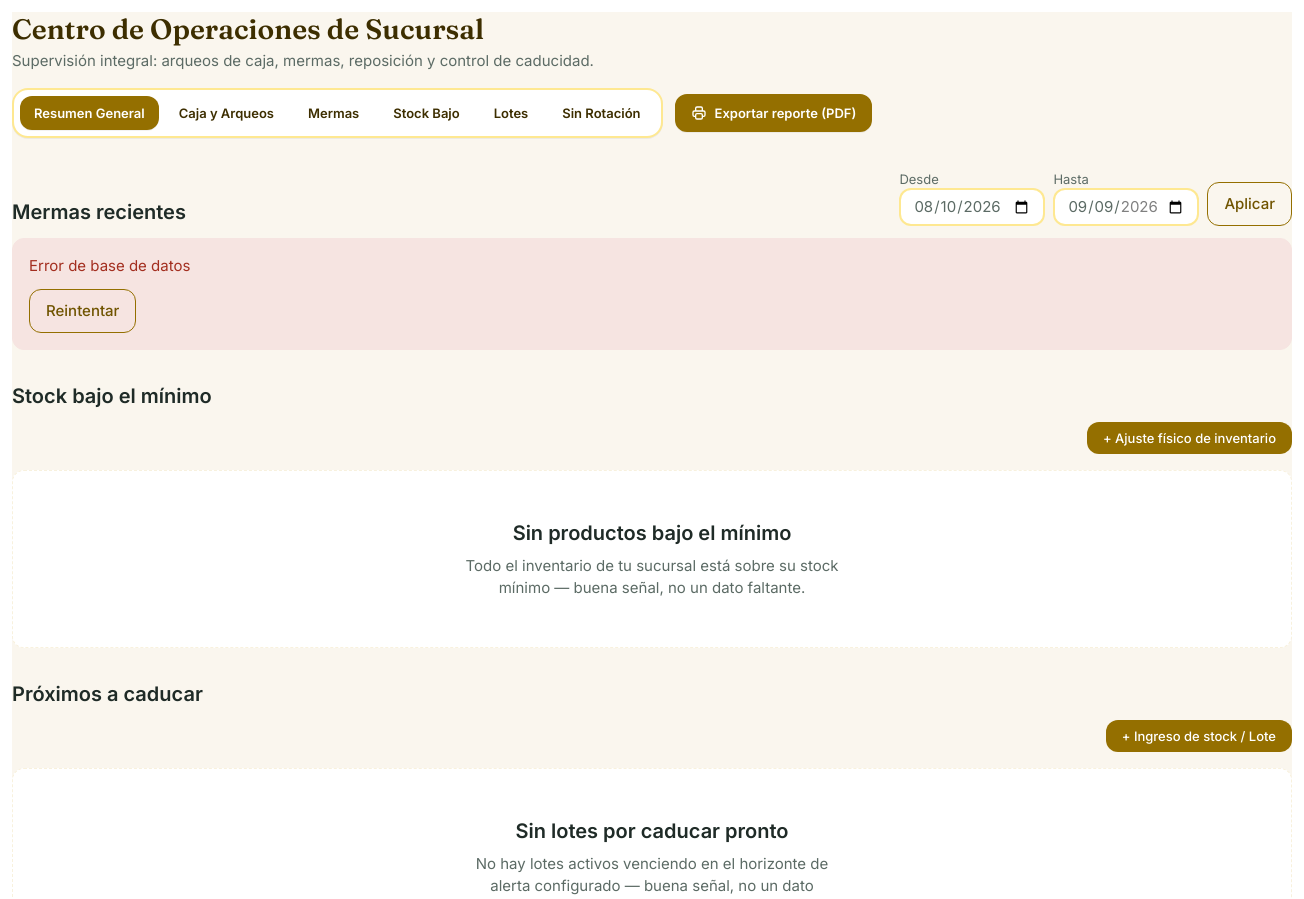
Test: DashboardSucursal — mermas › muestra el mensaje de error real del backend y permite reintentar
The image size is (1304, 899).
expect the text "Error de base de datos" is shown: met, box [29,256,190,275]
Click the button "Reintentar": (83, 311) [29,289,136,333]
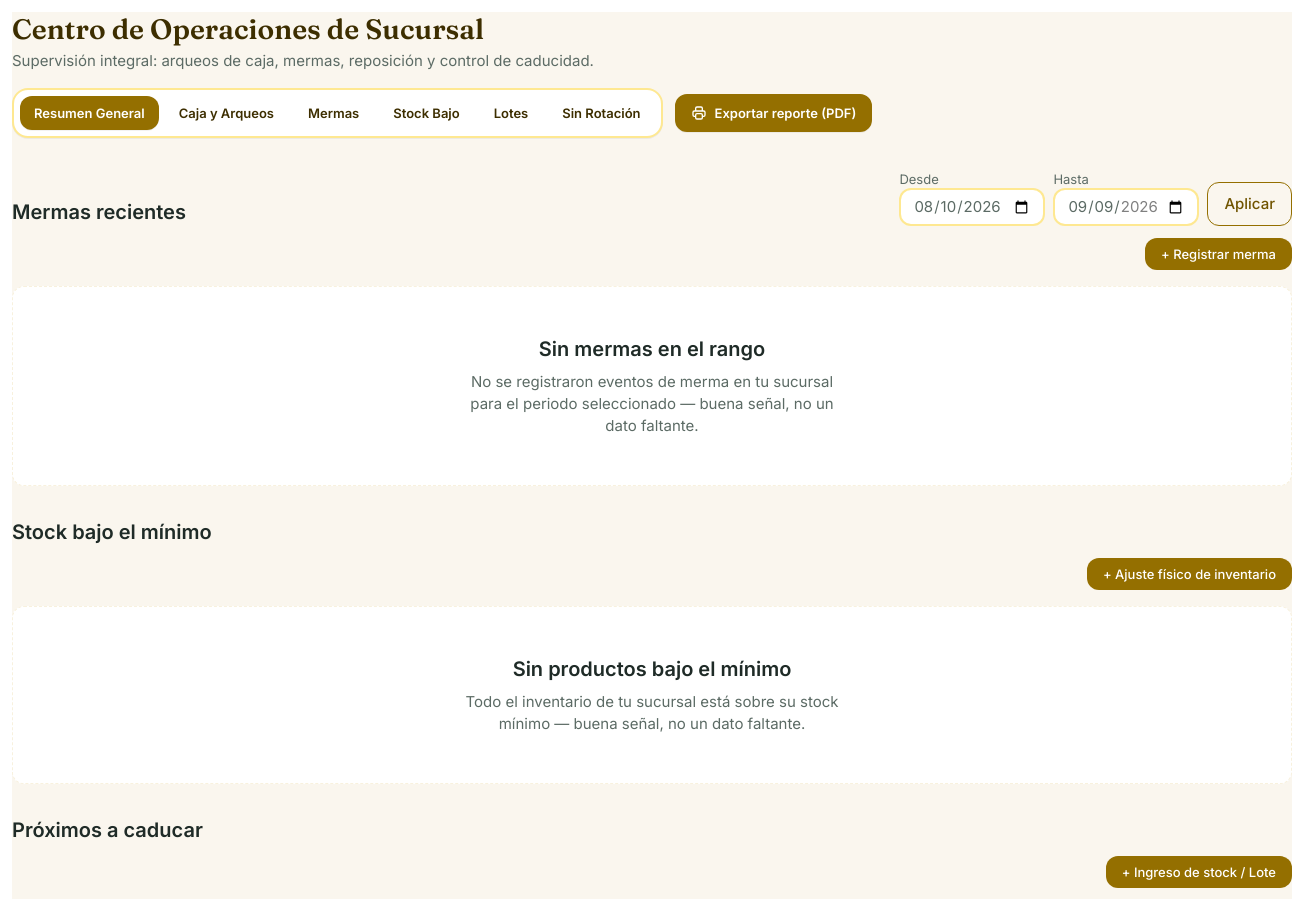
expect the text "Sin mermas en el rango" is shown: met, box [539,335,765,363]
